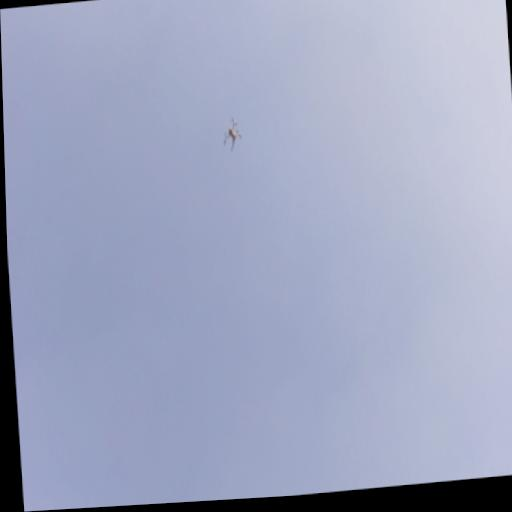drones: (219, 113, 244, 158)
